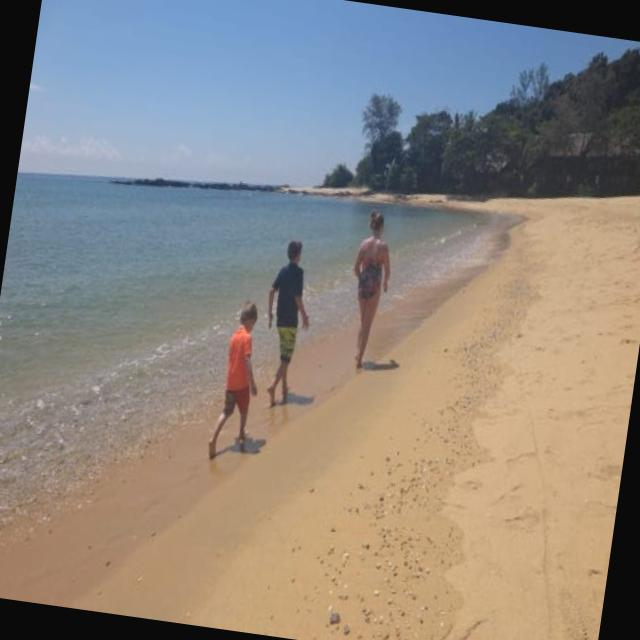Person: (250, 227, 324, 421), (334, 204, 402, 385), (202, 290, 267, 472)
